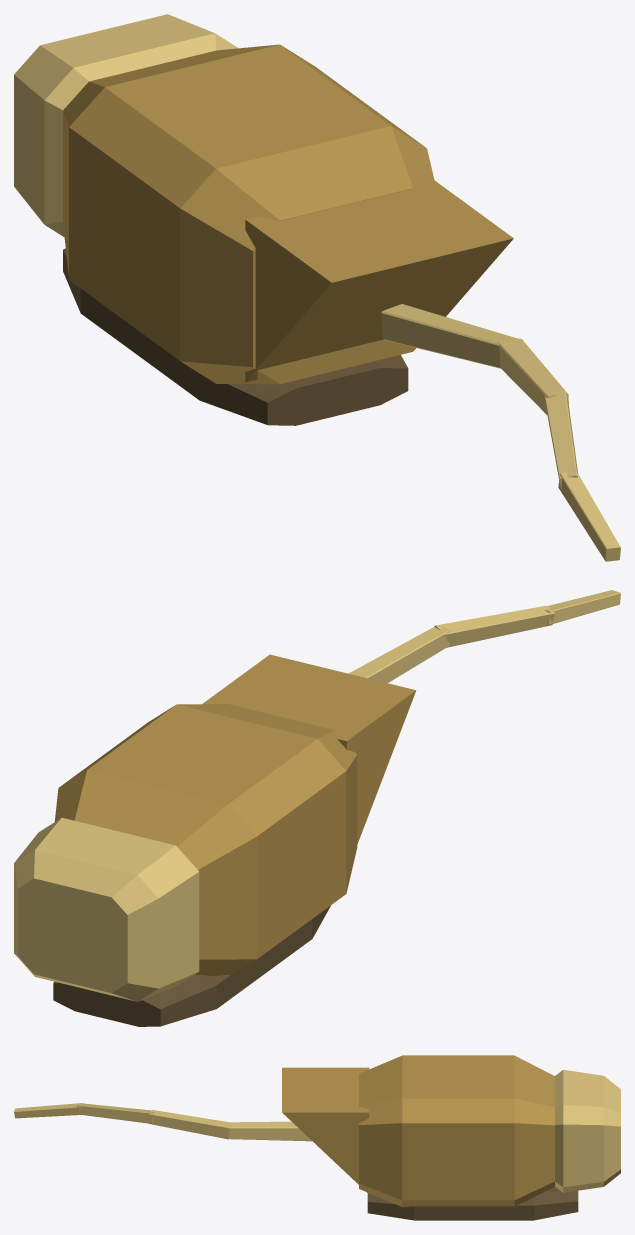
The model's file is Bacterivore__LOD1.gltf.
3 renders of one model, top to bottom at view 1: azimuth 30°, elevation 25°; view 2: azimuth 150°, elevation 25°; view 3: azimuth 270°, elevation 25°, orthographic. The views are drawn at different scales.
Parts seen in each view (by area): view 1: Root, Flagellum0, Flagellum1, Flagellum3, Flagellum2; view 2: Root, Flagellum2, Flagellum1, Flagellum3; view 3: Root, Flagellum0, Flagellum1, Flagellum2, Flagellum3.
Boxes of the visible parts, box(x1,y1,x2,y2) form: Root: box(14, 14, 513, 425); Flagellum0: box(381, 304, 523, 368); Flagellum1: box(498, 338, 569, 415); Flagellum3: box(558, 472, 620, 561); Flagellum2: box(544, 390, 577, 489); Root: box(14, 654, 416, 1026); Flagellum2: box(434, 605, 554, 647); Flagellum1: box(349, 626, 450, 683); Flagellum3: box(544, 590, 620, 625); Root: box(282, 1055, 620, 1220); Flagellum0: box(225, 1121, 311, 1141); Flagellum1: box(148, 1110, 232, 1139); Flagellum2: box(76, 1103, 155, 1123); Flagellum3: box(14, 1103, 83, 1118).
Size of the model in its own units: 0.84 by 0.81 by 3.55.
1 material, 1 textured.
